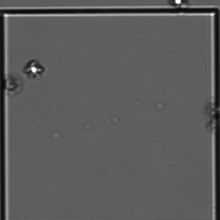Dead Cell: (4, 74, 20, 96)
Living Cell: (24, 53, 49, 86)
